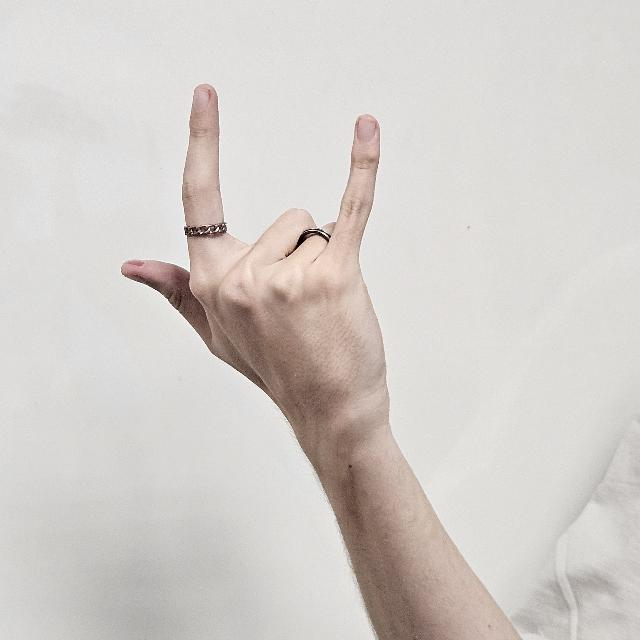Cima: (121, 80, 396, 456)
